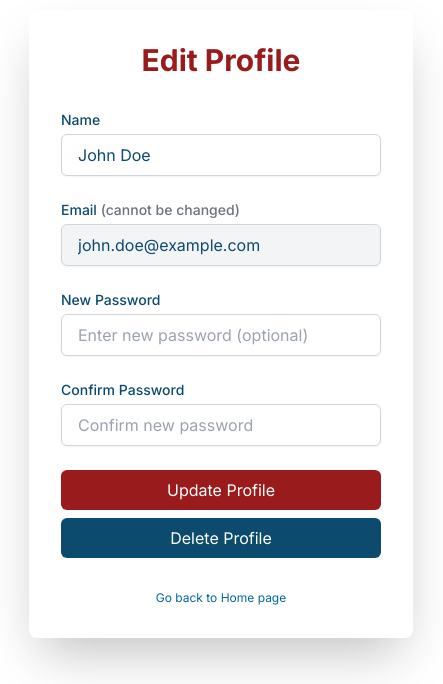
Test: Profile Component › updates user profile successfully
Replace the text in the field labelled "Name" with "Jane Doe" at point(221, 155), box [61,134,381,176]
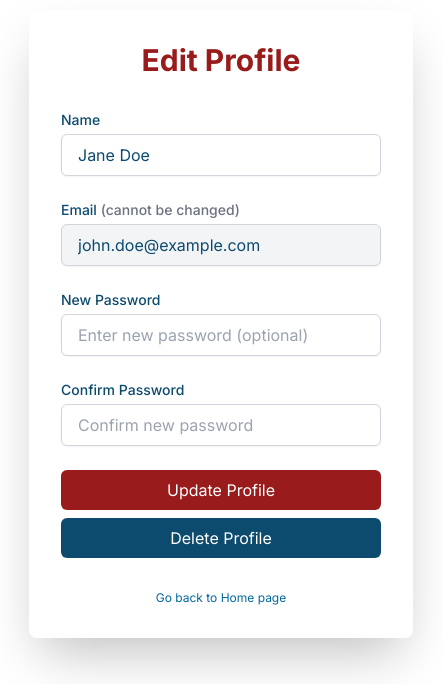
Type "newpassword" into the password field labelled "New Password" at point(221, 335), box [61,314,381,356]
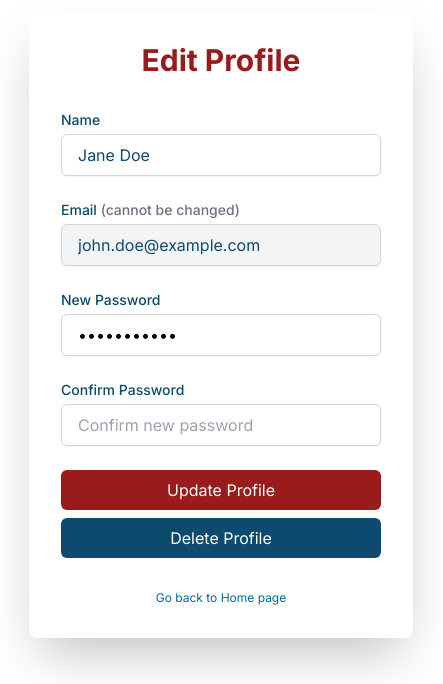
Type "newpassword" into the password field labelled "Confirm Password" at point(221, 425), box [61,404,381,446]
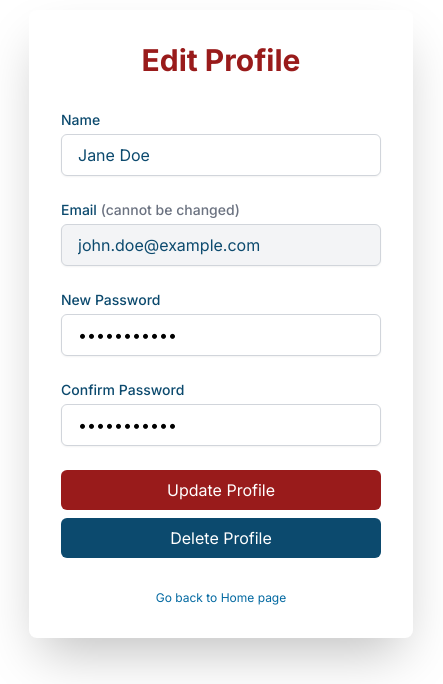
Click the button "Update Profile" at point(221, 490), box [61,470,381,510]
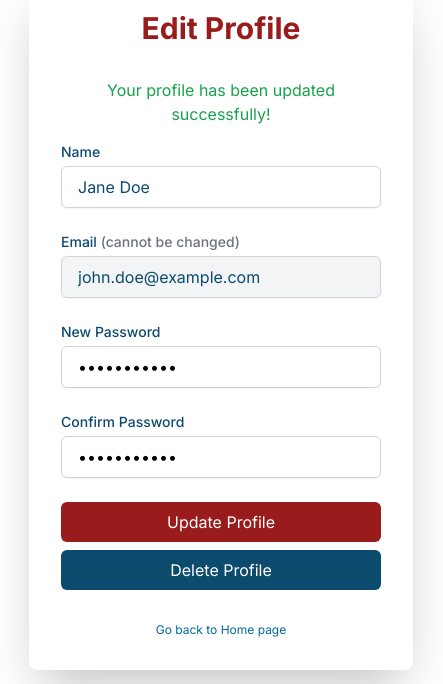
Result: the text "Your profile has been updated successfully!" is shown at [107,80,335,124]
